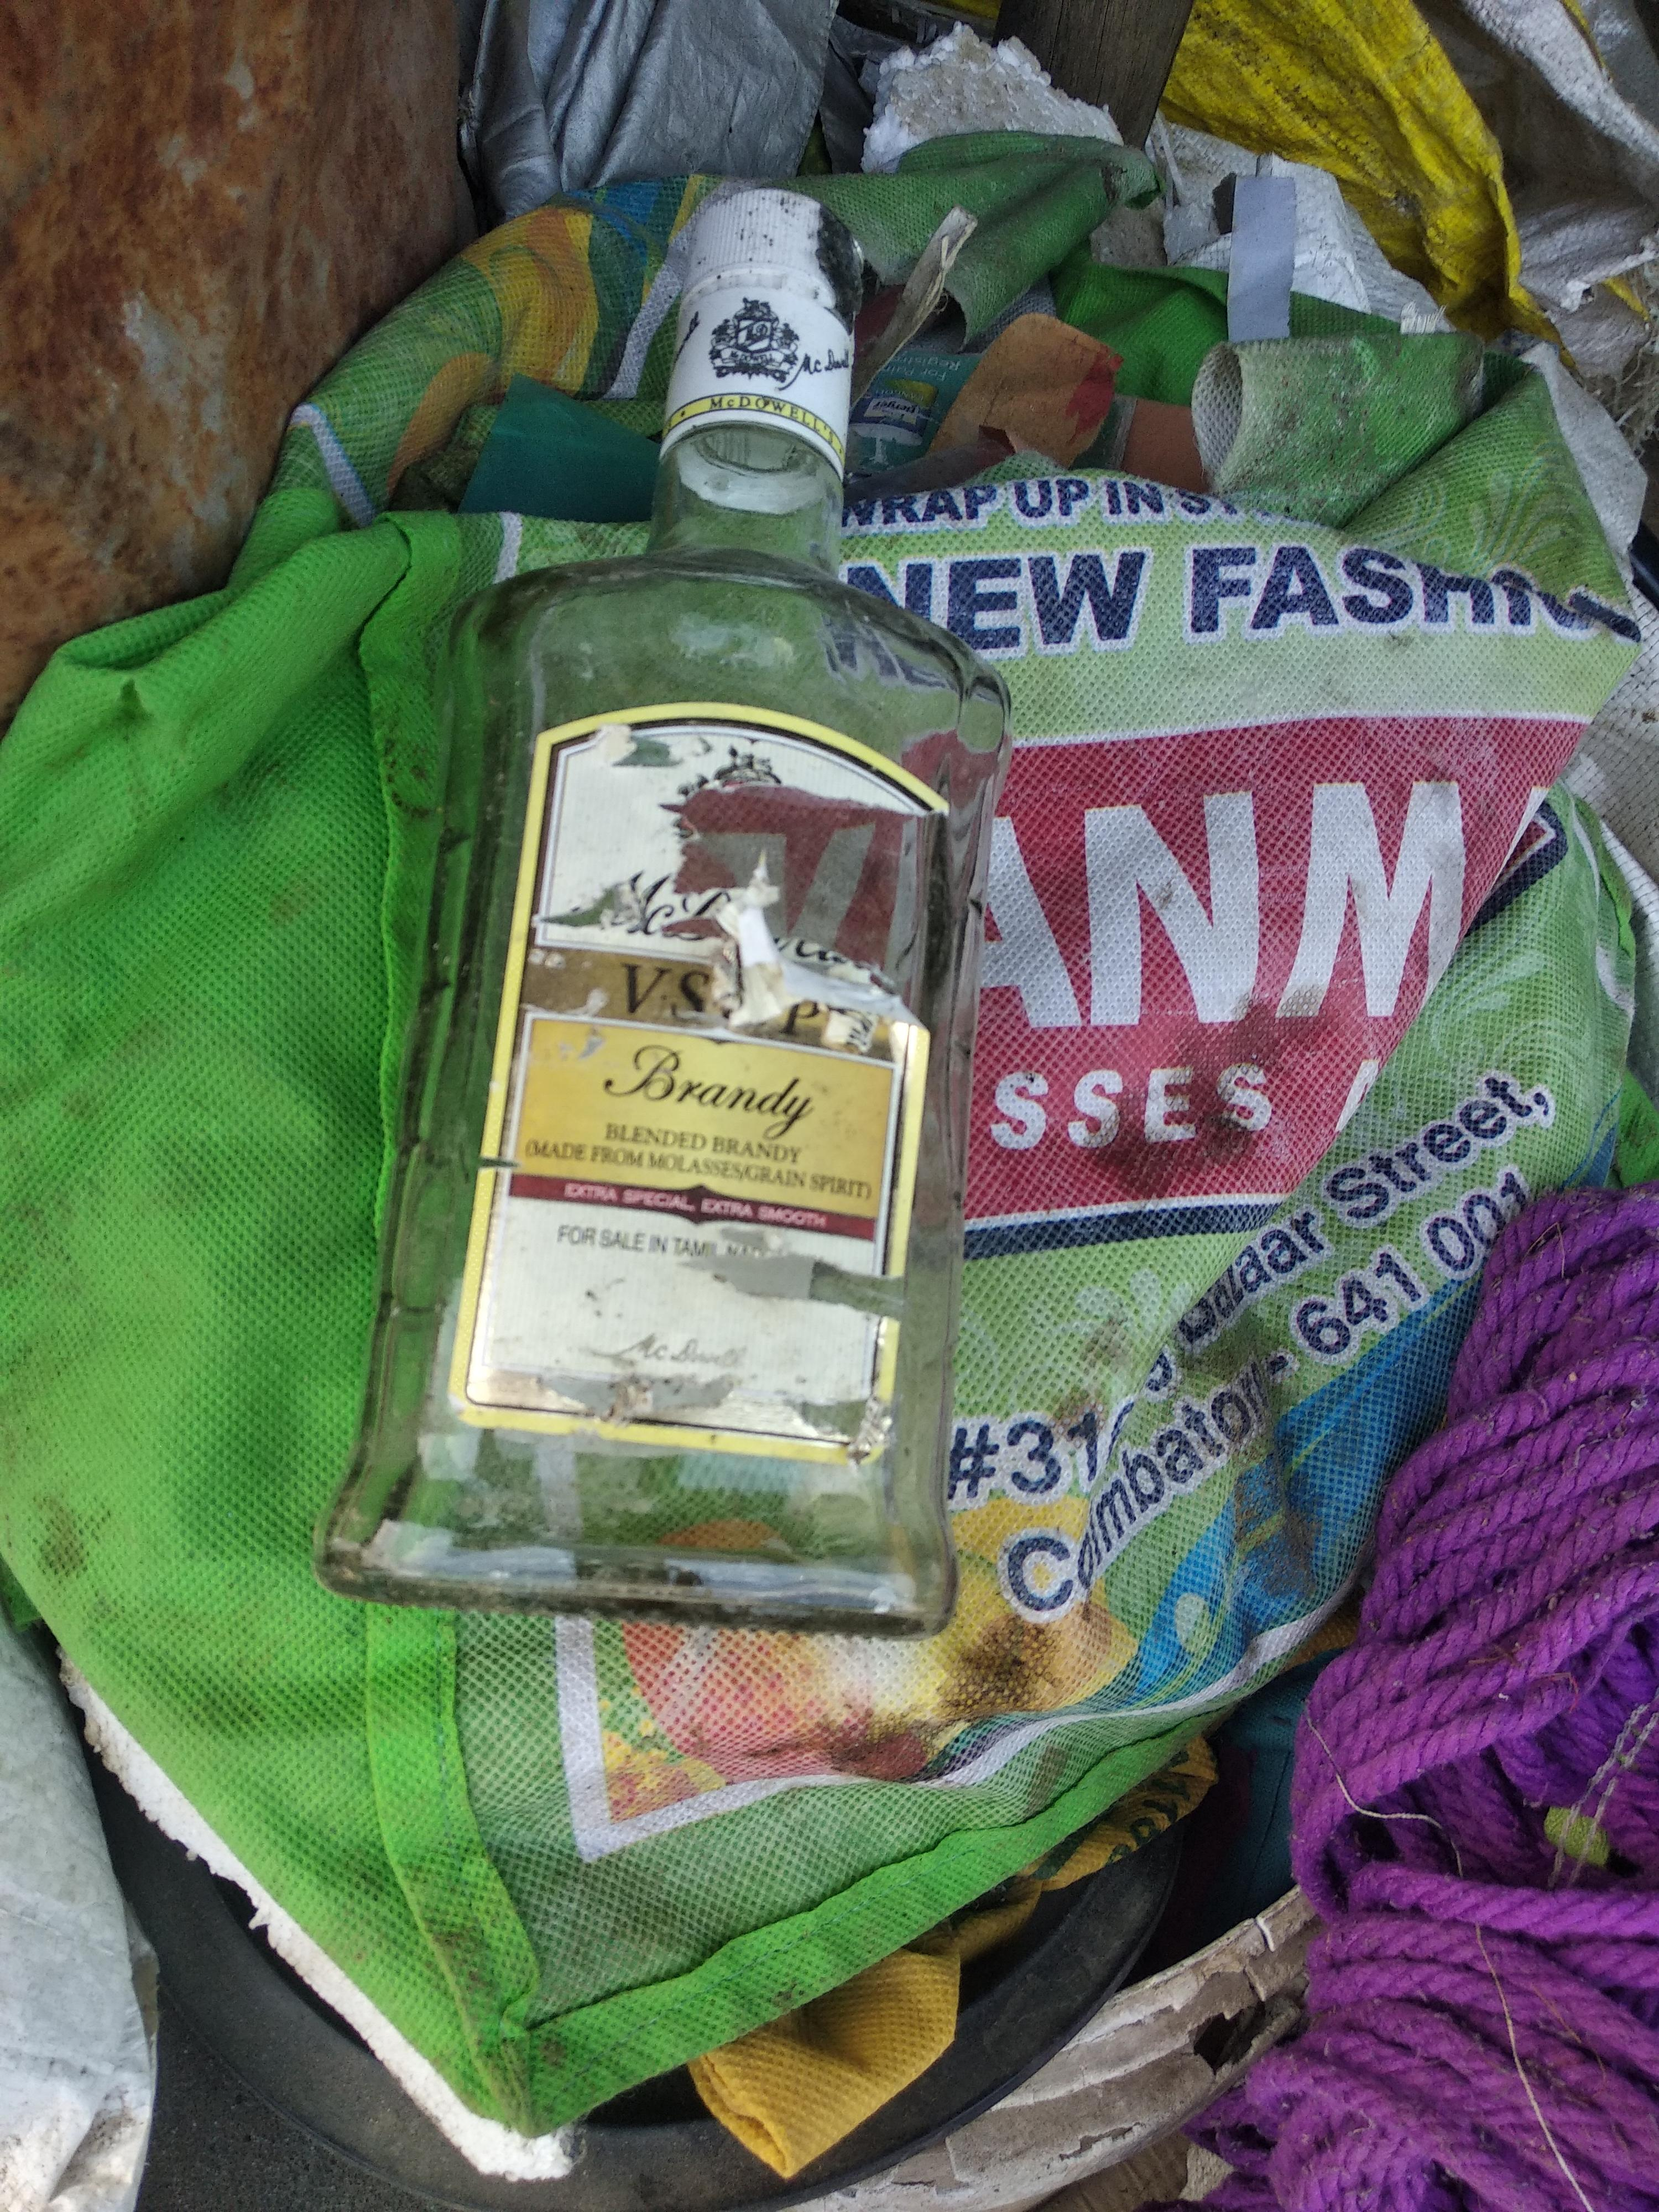trash: (312, 160, 1004, 1663)
